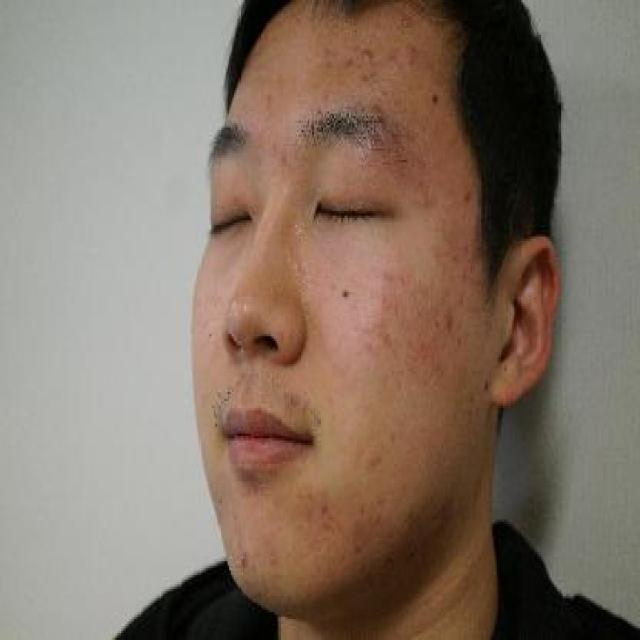papules: (392, 10, 418, 32), (237, 550, 254, 575), (357, 40, 372, 68)
